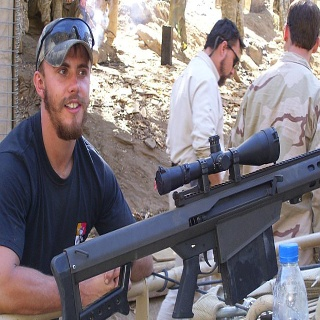rifle: (50, 125, 320, 320)
